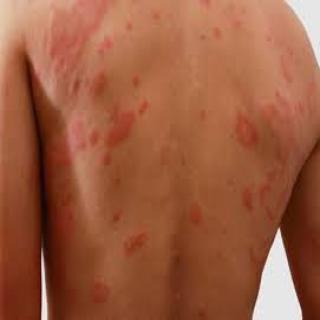urticaria: (57, 73, 153, 158), (30, 1, 121, 67), (234, 98, 292, 189), (113, 204, 152, 254), (276, 48, 311, 91), (191, 24, 235, 46), (184, 198, 205, 241), (84, 279, 113, 307), (238, 195, 279, 214), (148, 11, 164, 20)
